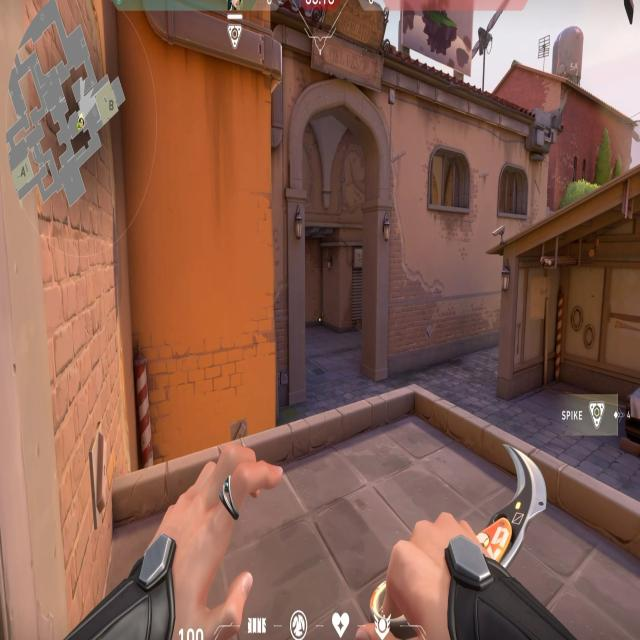B_Garage_Left: (499, 244, 640, 464)
Throwables: (429, 143, 472, 221), (495, 159, 532, 222)
